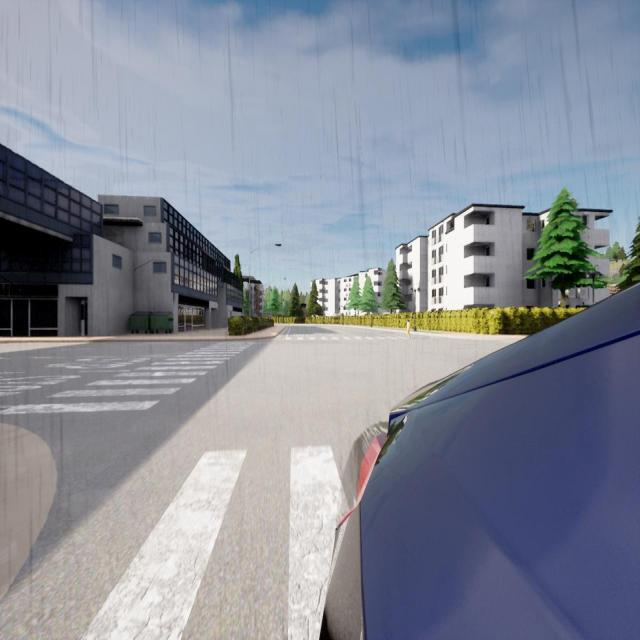Pedestrian: (407, 319, 411, 338)
Vehicle: (318, 285, 640, 638)
